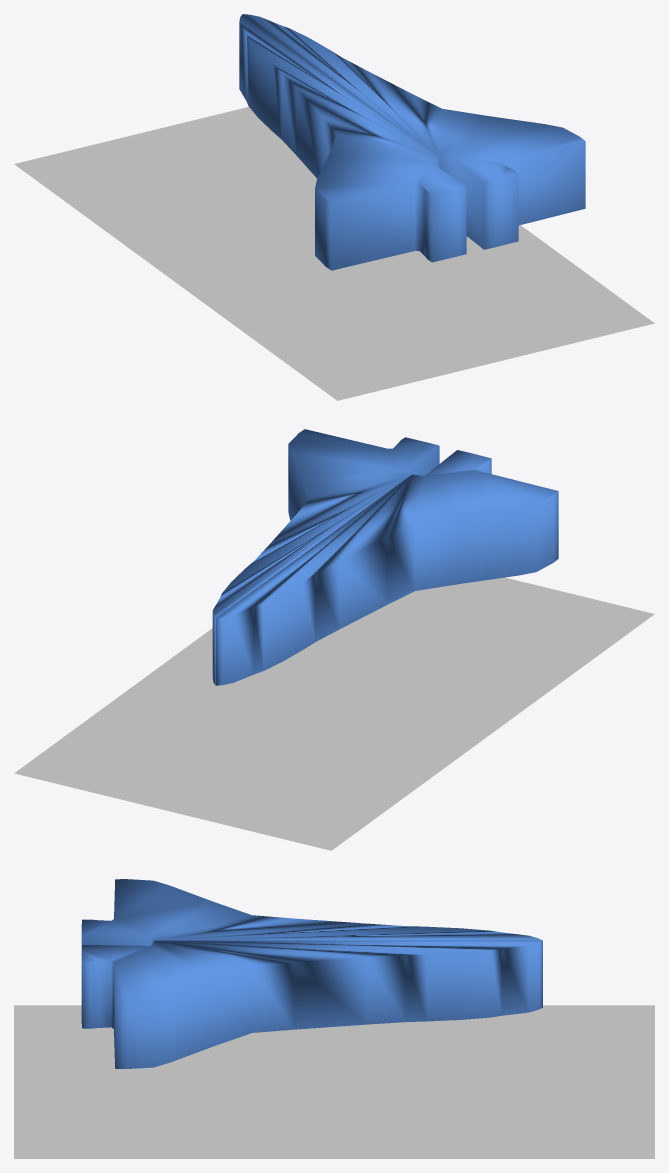
File: Discovery.obj
3 views of the same model, one above another, from view 1: azimuth 30°, elevation 25°; view 2: azimuth 150°, elevation 25°; view 3: azimuth 270°, elevation 25° (orthographic).
Parts seen in each view (by area): view 1: Plane001, Line001; view 2: Plane001, Line001; view 3: Plane001, Line001.
Boxes of the visible parts, bbox=[...] form: Plane001: bbox=[14, 107, 654, 400]; Line001: bbox=[239, 14, 585, 270]; Plane001: bbox=[14, 577, 654, 850]; Line001: bbox=[212, 429, 558, 685]; Plane001: bbox=[14, 1005, 654, 1158]; Line001: bbox=[81, 879, 542, 1068].
Size of the model in its own units: 2915 by 1311 by 5145.
